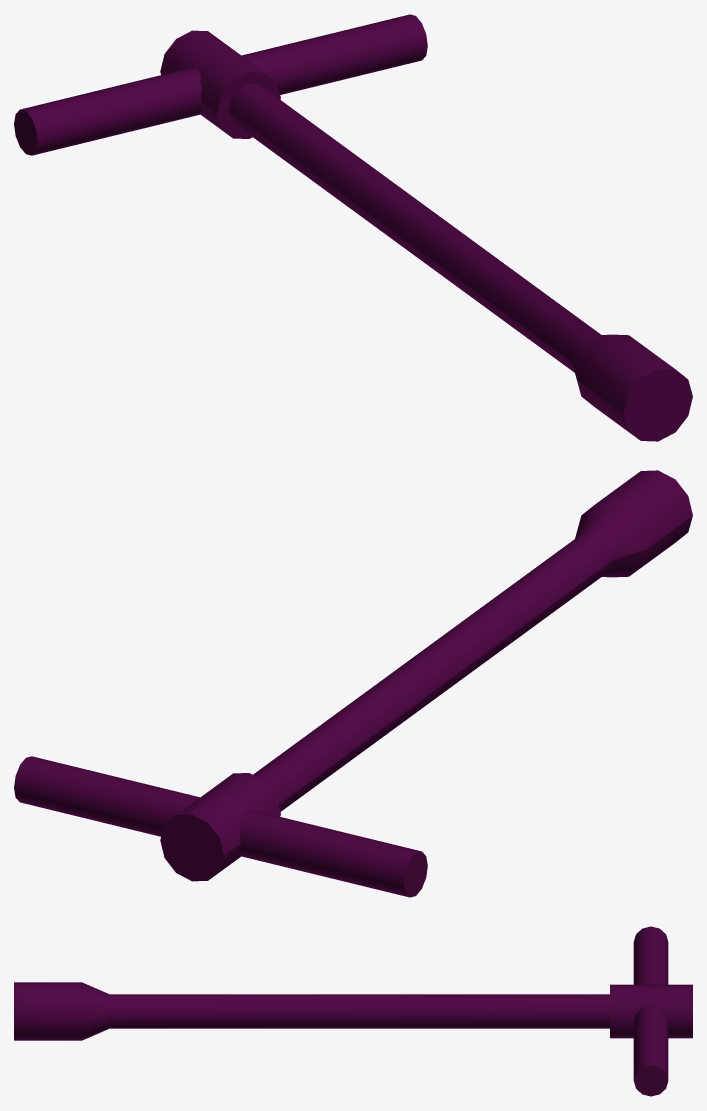
Rendered from Workshop_Tool1.fbx.
The picture shows the model from 3 angles, top to bottom: view 1: azimuth 30°, elevation 25°; view 2: azimuth 150°, elevation 25°; view 3: azimuth 270°, elevation 25°; orthographic projection. The views are drawn at different scales.
Visible parts, largest first — view 1: Workshop_Tool1; view 2: Workshop_Tool1; view 3: Workshop_Tool1.
Boxes of the visible parts, x1,y1,x2,y2 form: Workshop_Tool1: (14, 14, 692, 441); Workshop_Tool1: (14, 470, 692, 897); Workshop_Tool1: (14, 926, 692, 1096).
Bounding box in the file's own units: 22.98 × 4.1 × 47.57.
